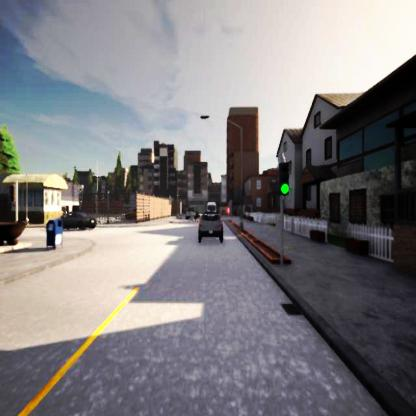vehicle: (197, 213, 224, 240), (63, 212, 98, 230), (203, 200, 217, 219)
